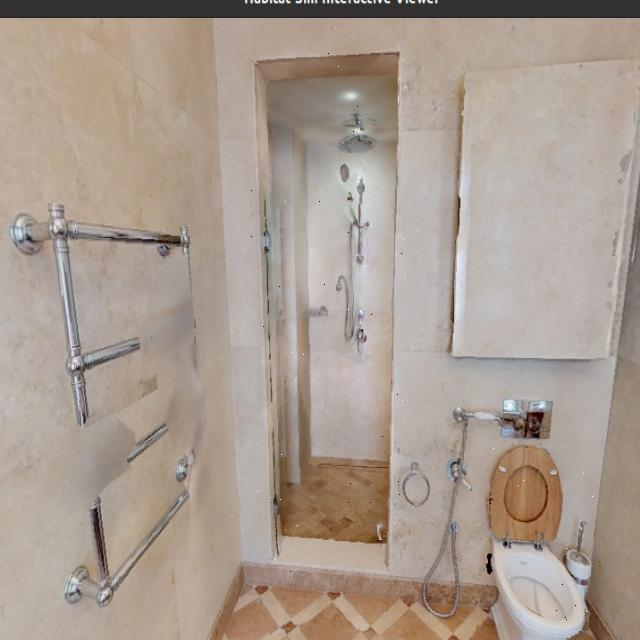door-frame: (251, 37, 409, 577)
shower: (283, 89, 397, 526)
toilet: (468, 424, 594, 640)
